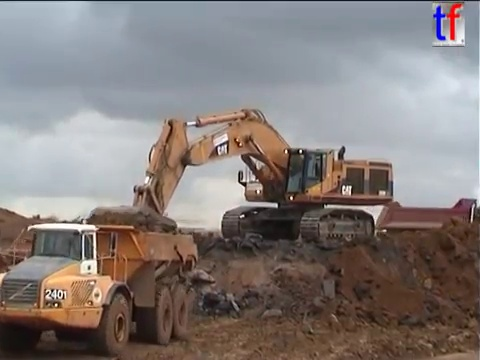excavator: (117, 106, 396, 278)
truck: (1, 218, 201, 360), (373, 197, 480, 244)
